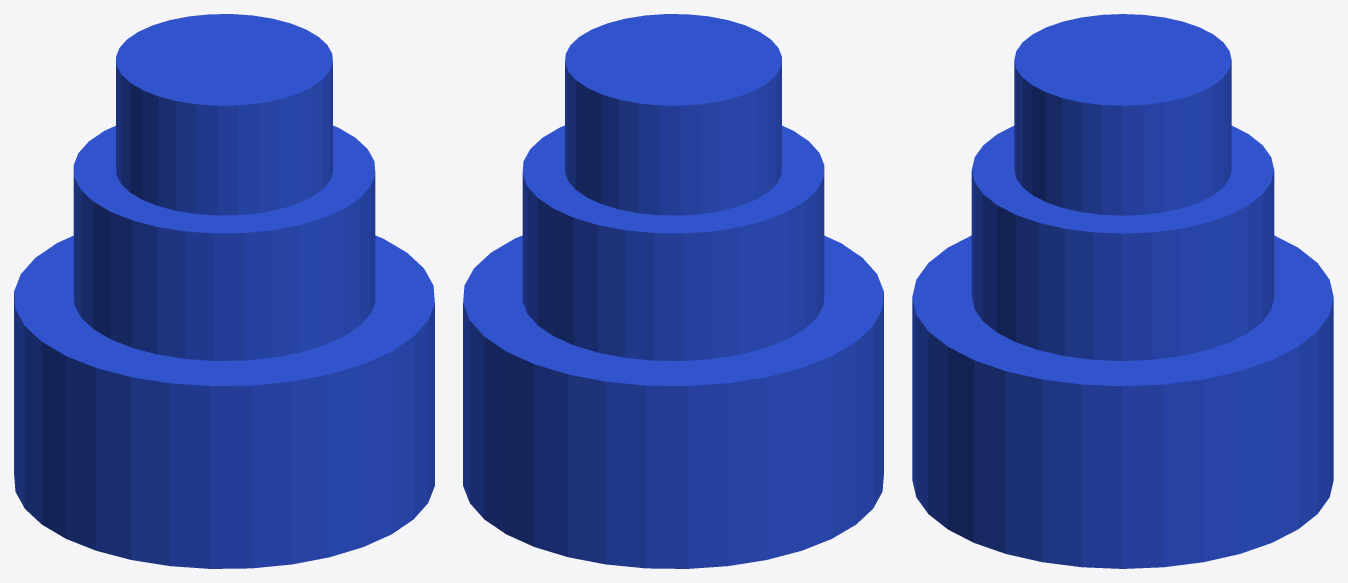
Rendered from cake.glb.
The picture shows the model from 3 angles, left to right: view 1: azimuth 30°, elevation 25°; view 2: azimuth 150°, elevation 25°; view 3: azimuth 270°, elevation 25°; orthographic projection.
Parts seen in each view (by area): view 1: Cylinder; view 2: Cylinder; view 3: Cylinder.
Boxes of the visible parts, left/top/right/bottom form: Cylinder: left=14, top=14, right=434, bottom=568; Cylinder: left=463, top=14, right=883, bottom=568; Cylinder: left=912, top=14, right=1333, bottom=568.
Bounding box in the file's own units: 2 × 2.2 × 2.
